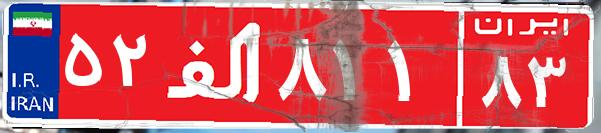1: (385, 28, 445, 110), (330, 28, 385, 110)
2: (110, 28, 158, 105)
3: (525, 38, 570, 115)
5: (57, 26, 110, 107)
8: (273, 28, 330, 110), (475, 38, 525, 113)
الف: (158, 15, 273, 115)
